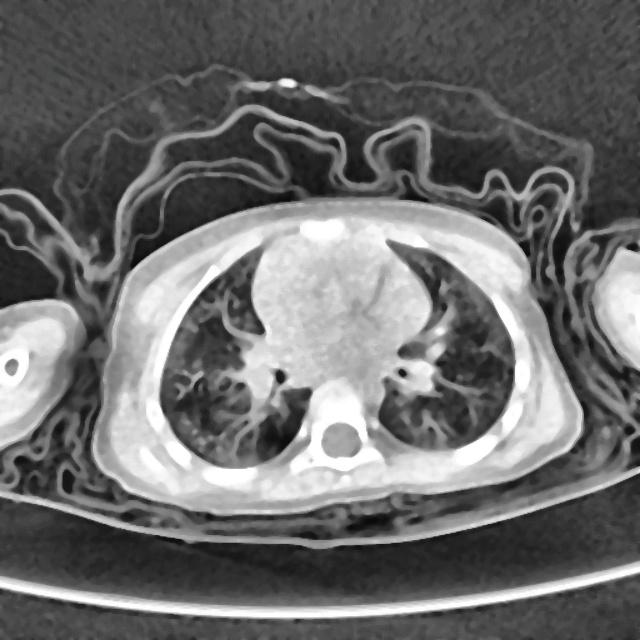covid: (90, 194, 585, 517)
